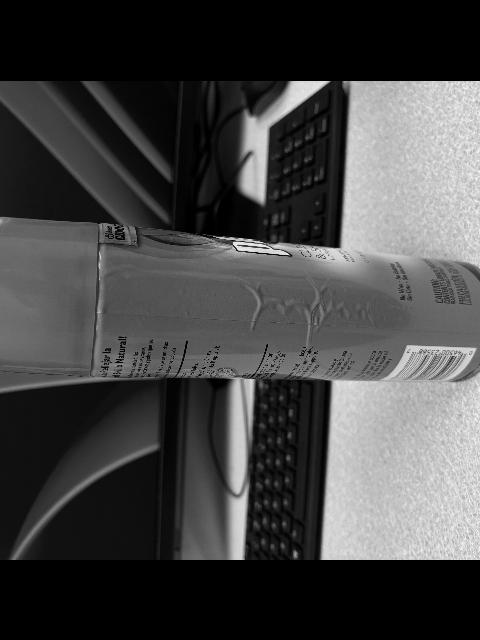Pledge: (0, 215, 480, 382)
